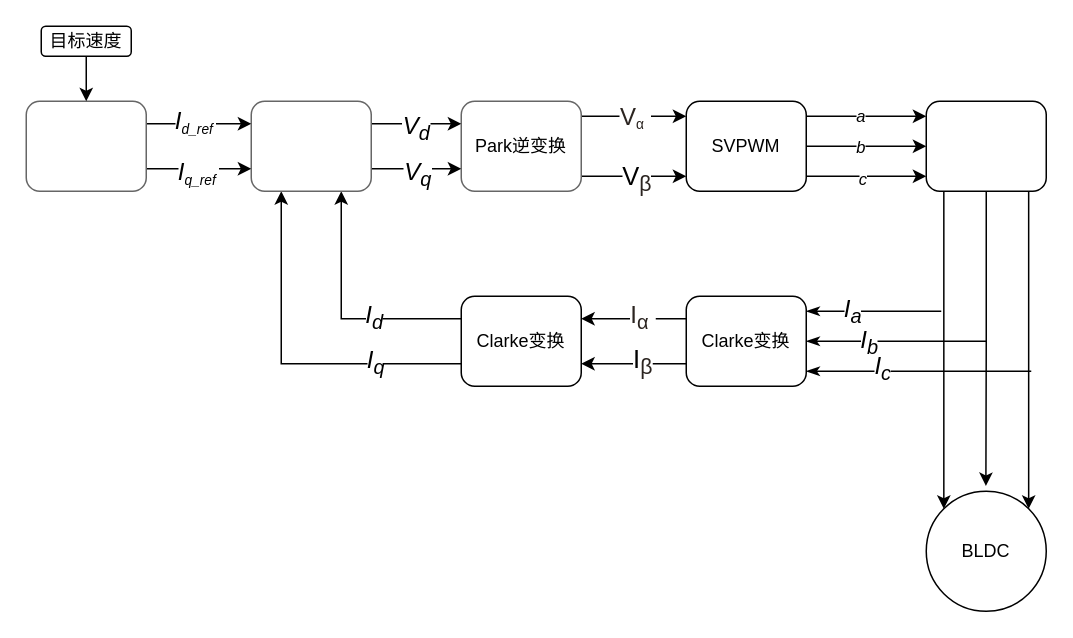
Some shapes in this 1073 by 638 pixel diagram are drawn without their labels. Here are the shapes that lost their labels. From the top down, the box of each, then its label:
(25, 100, 146, 191): 速度环PID
(250, 100, 371, 191): 电流环PI
(925, 100, 1046, 191): 三相逆变电路
